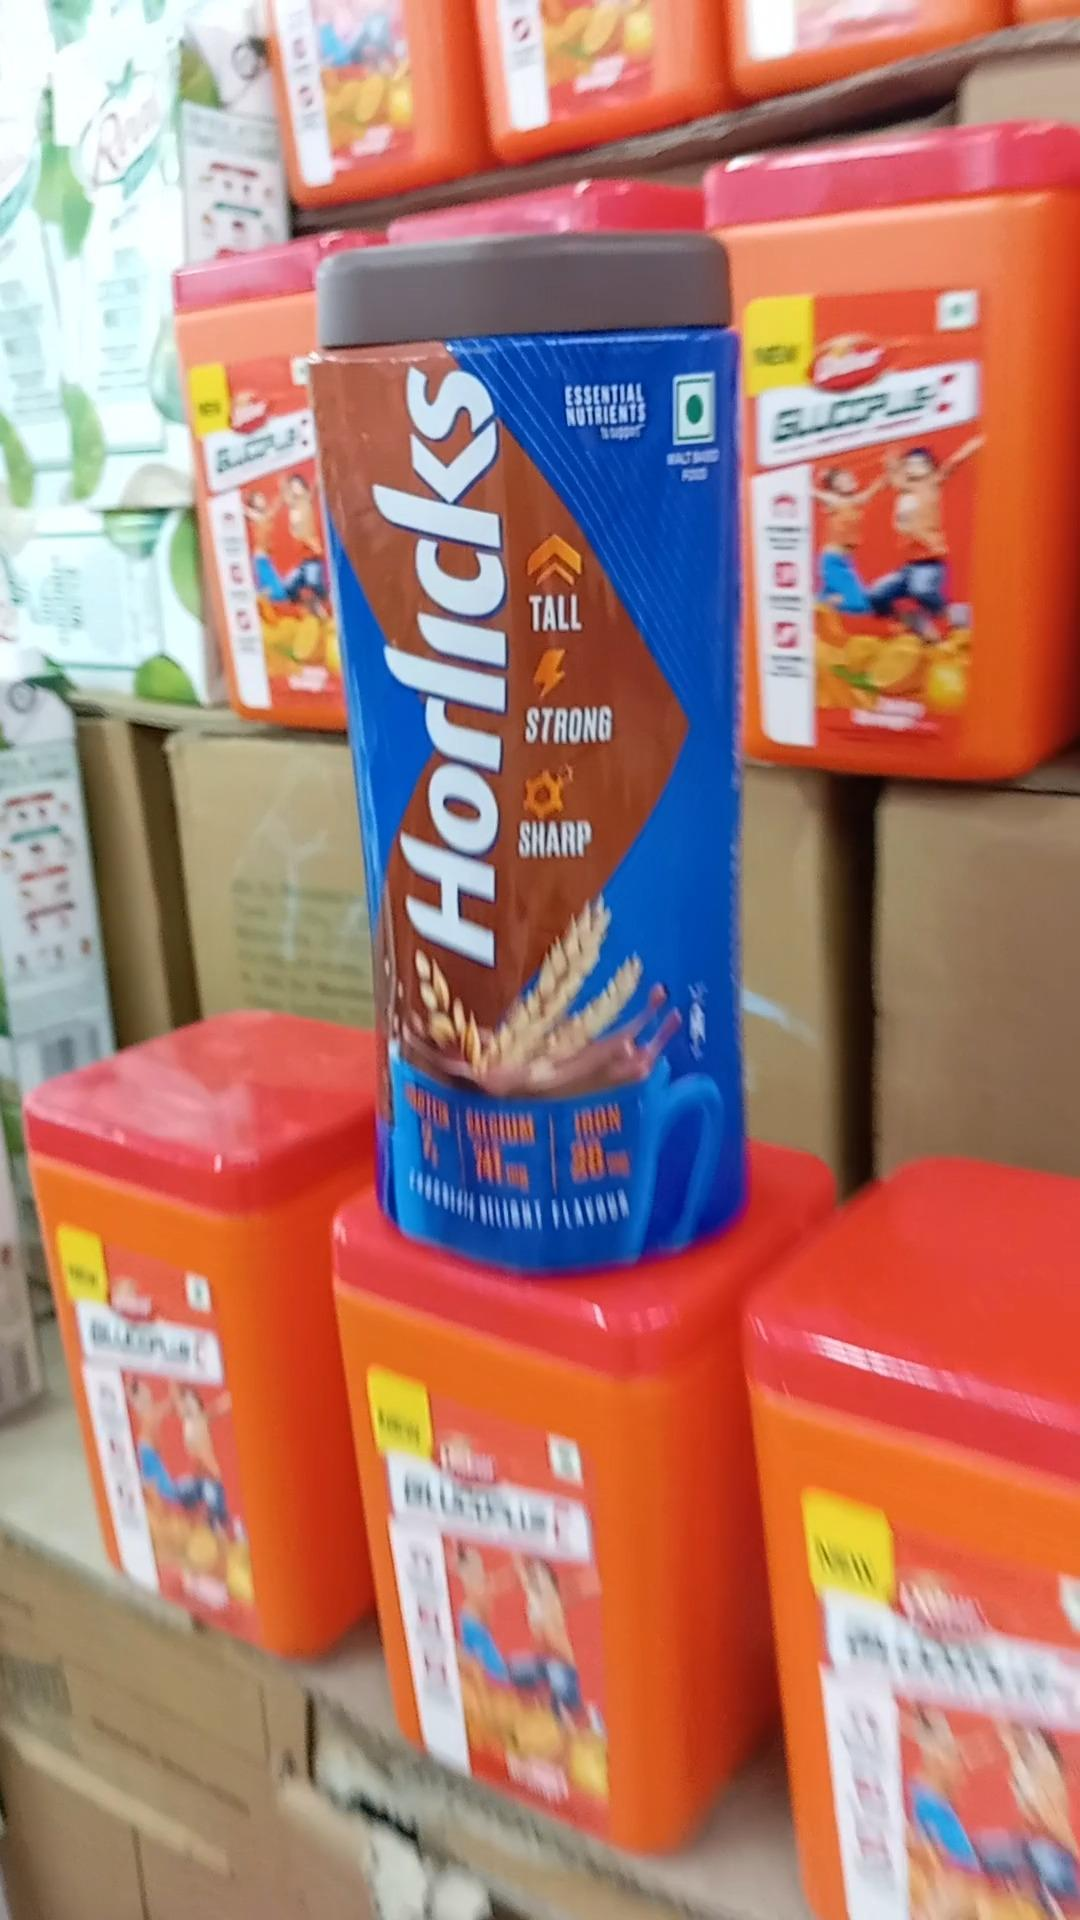HORLICK_CHOCOLATE_1_KG_JAR: (316, 227, 765, 1273)
